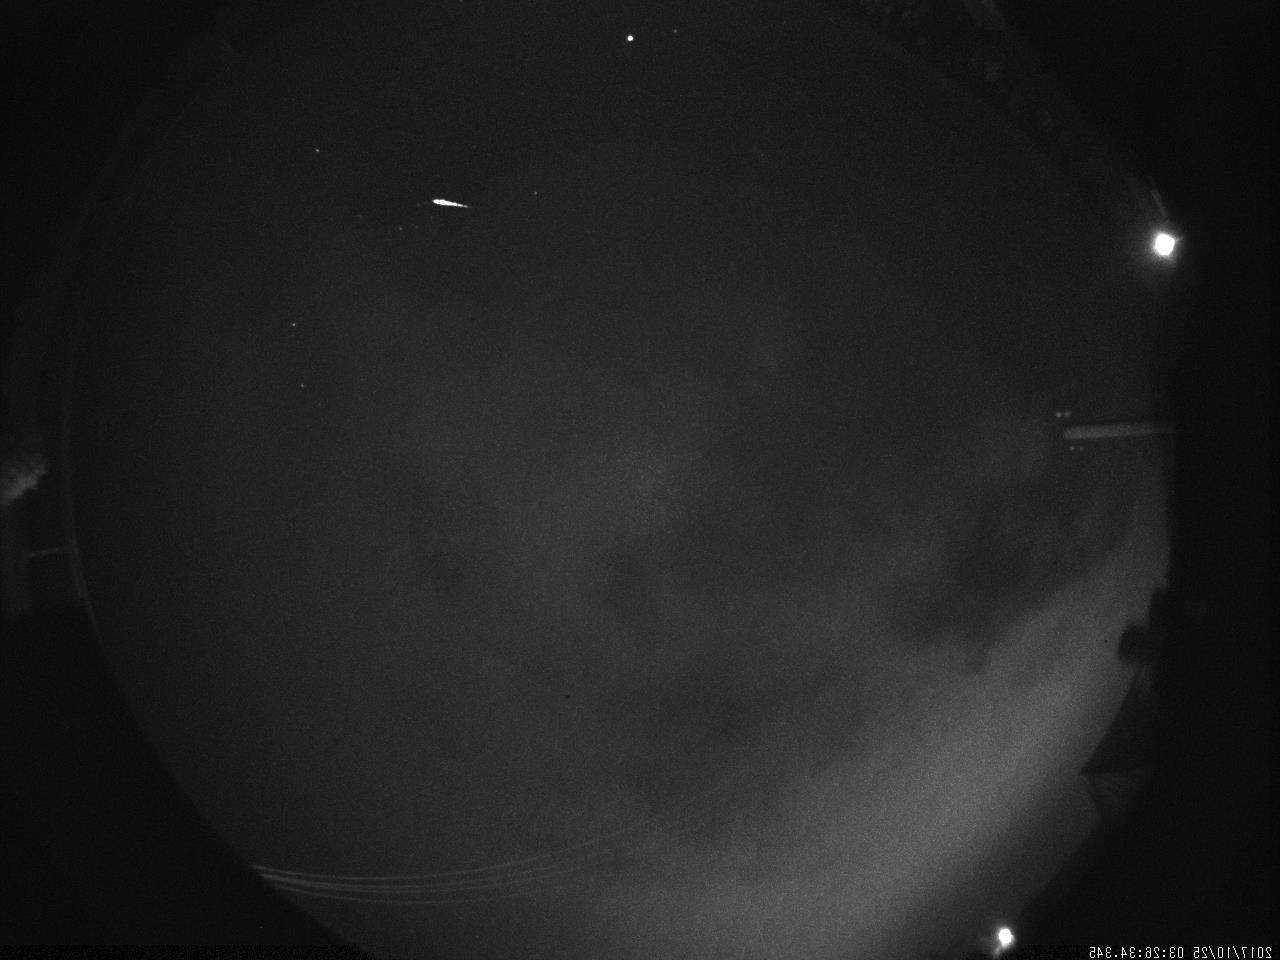meteor: (417, 194, 473, 221)
